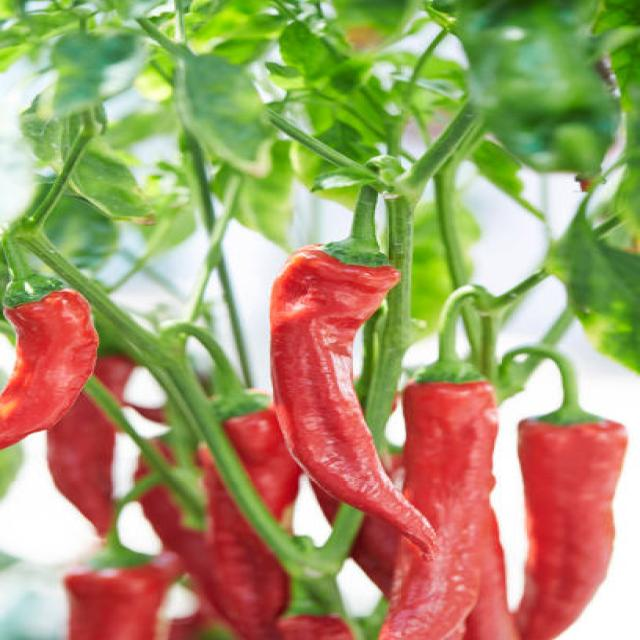Ripe: (271, 246, 436, 554), (380, 382, 496, 639), (515, 419, 626, 639), (0, 289, 97, 449)
